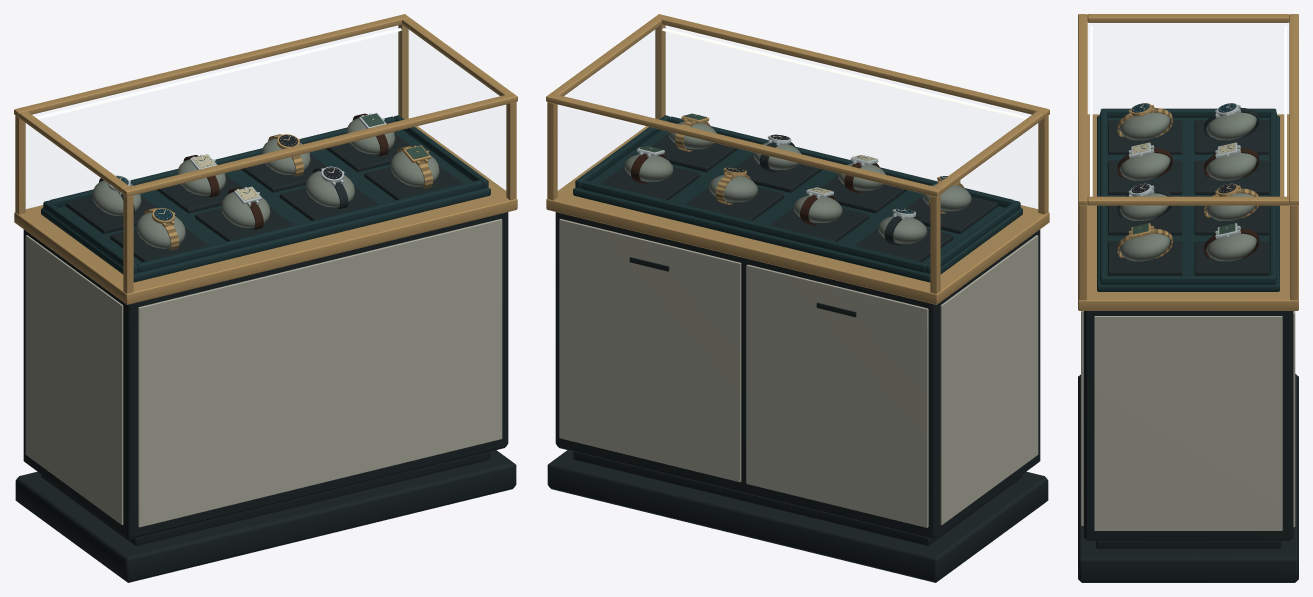
3 views of the same model, side by side, from view 1: azimuth 30°, elevation 25°; view 2: azimuth 150°, elevation 25°; view 3: azimuth 270°, elevation 25° (orthographic). The views are drawn at different scales.
Visible parts, largest first — view 1: BATCH_Softsurfaces, BATCH_Hardware; view 2: BATCH_Softsurfaces, BATCH_Hardware; view 3: BATCH_Softsurfaces, BATCH_Hardware.
Part boxes in pixels (box(x1,y1,x2,y2)): BATCH_Softsurfaces: box(15, 113, 516, 582); BATCH_Hardware: box(14, 14, 517, 304); BATCH_Softsurfaces: box(547, 113, 1048, 582); BATCH_Hardware: box(546, 14, 1049, 304); BATCH_Softsurfaces: box(1078, 103, 1298, 582); BATCH_Hardware: box(1078, 14, 1298, 310).
Bounding box in the file's own units: 1 × 0.96 × 0.5.
